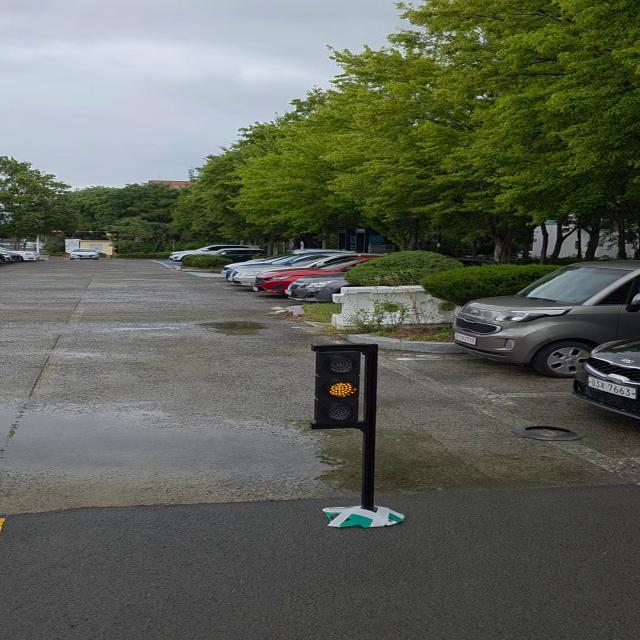yellow: (308, 348, 371, 428)
